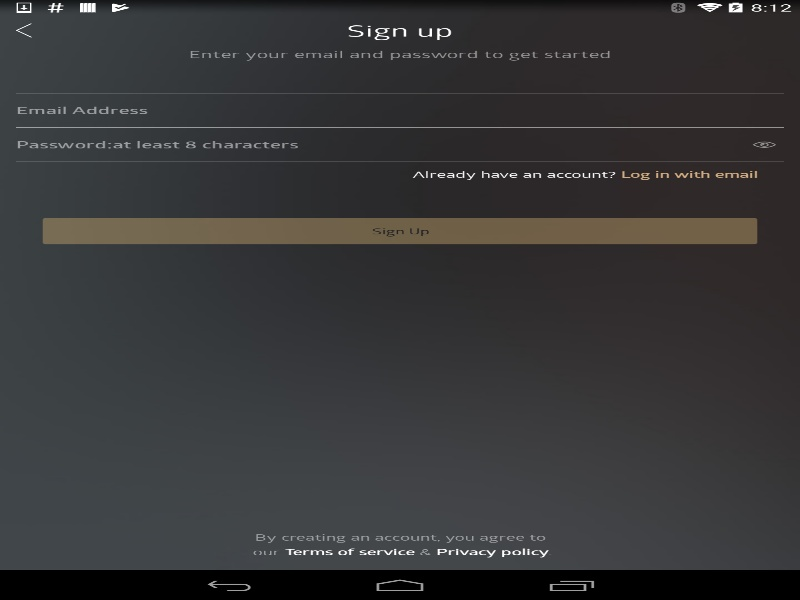Input: (16, 93, 784, 127), (16, 127, 748, 161)
